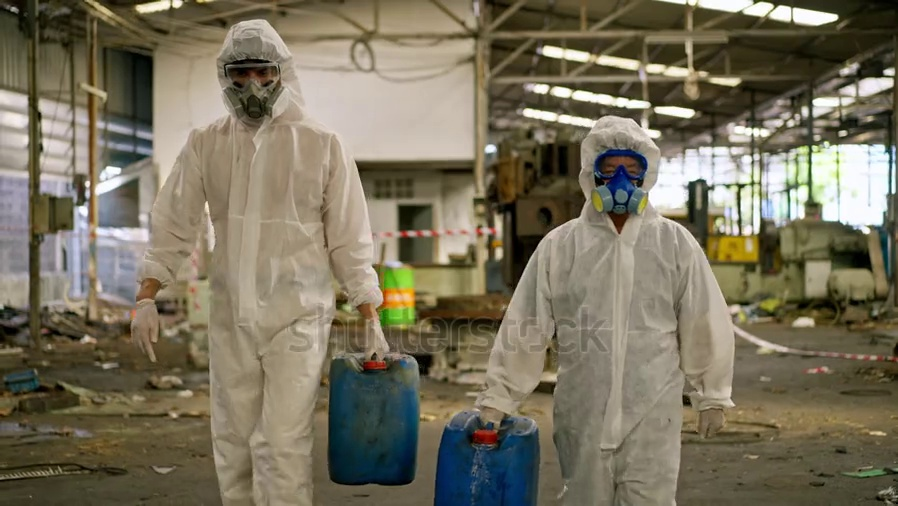mask: (226, 78, 284, 122), (591, 175, 651, 214)
person: (129, 19, 389, 506), (471, 111, 738, 506)
